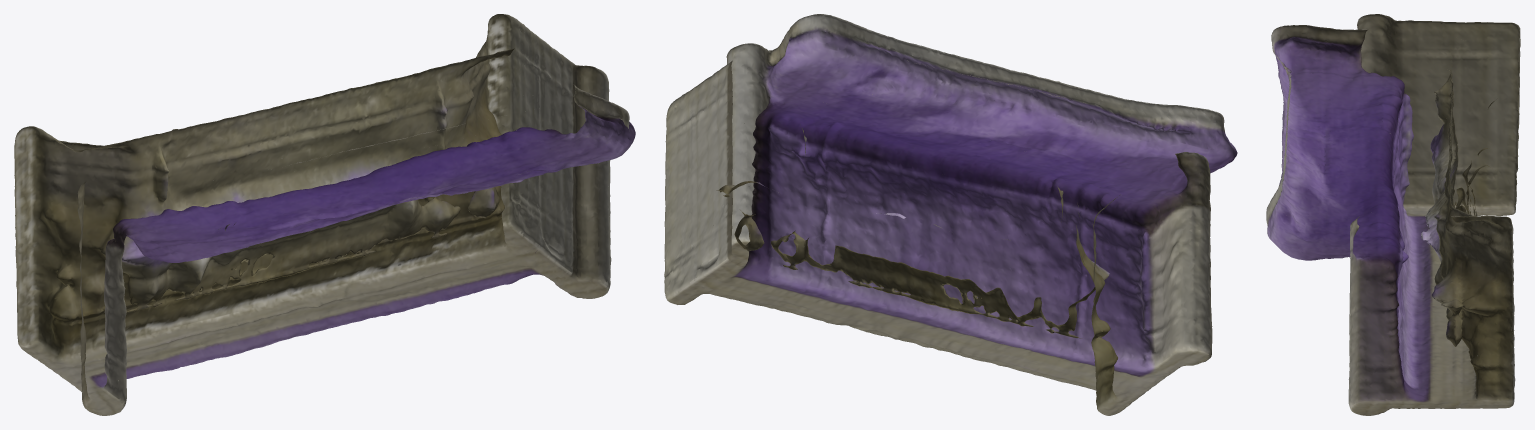
File: sofa.glb
The picture shows the model from 3 angles, left to right: view 1: azimuth 30°, elevation 25°; view 2: azimuth 150°, elevation 25°; view 3: azimuth 270°, elevation 25°; orthographic projection. The views are drawn at different scales.
Size of the model in its own units: 1 by 0.4179 by 0.4899.
